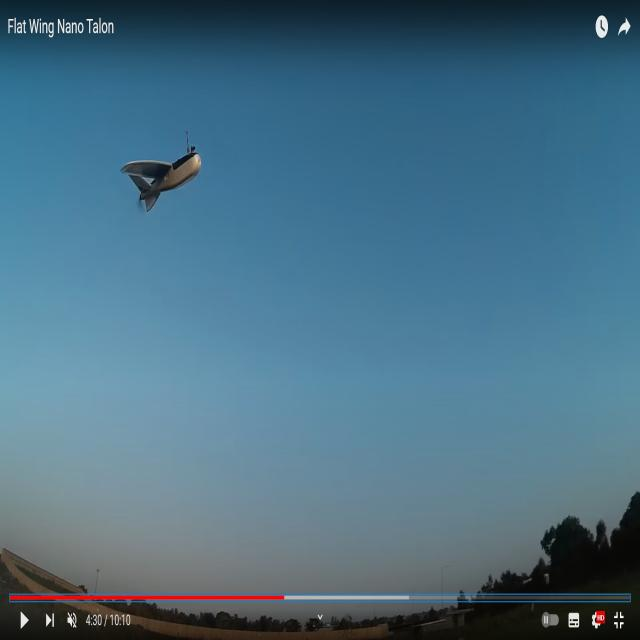iha: (152, 163, 169, 182)
